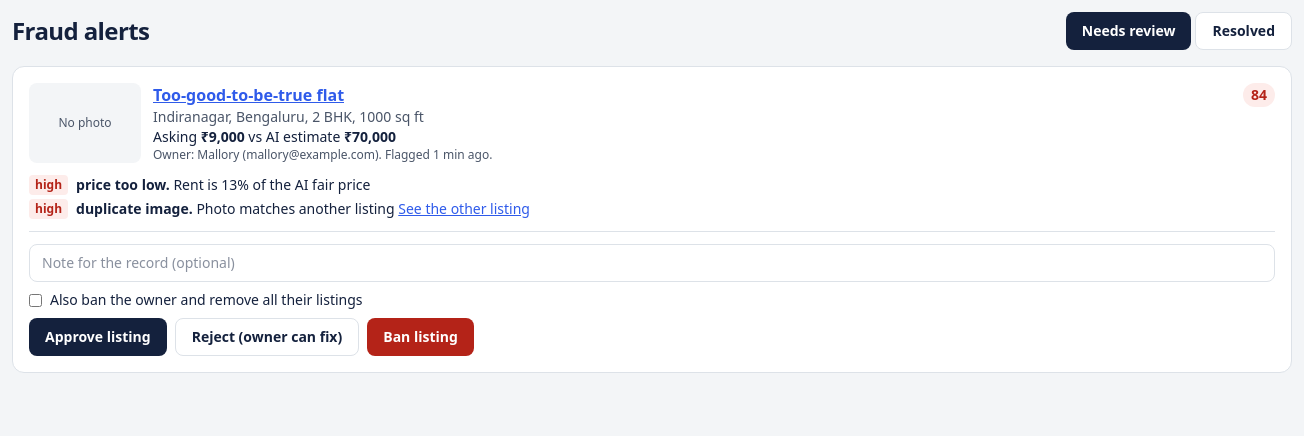
Test case: fraud alert queue › a failed decision keeps the card and explains why
This screenshot has width=1304, height=436.
Expected: the link "Too-good-to-be-true flat" is shown, [153,83,344,107]
Click the button "Ban listing" at (420, 337), box [367,318,474,356]
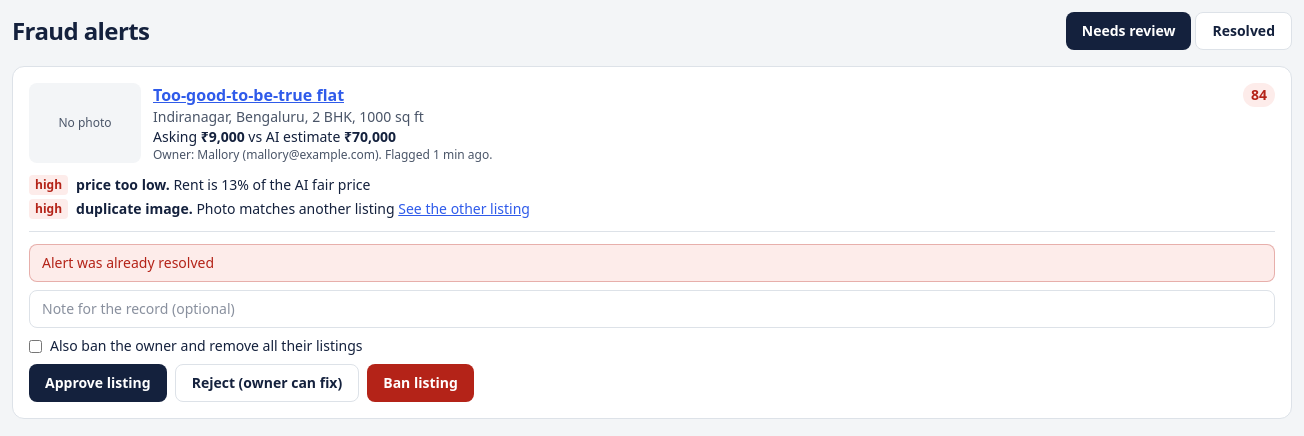
Expected: the link "Too-good-to-be-true flat" is shown, [153,83,344,107]
Expected: the text "Alert was already resolved" is shown, [29,244,1275,282]
